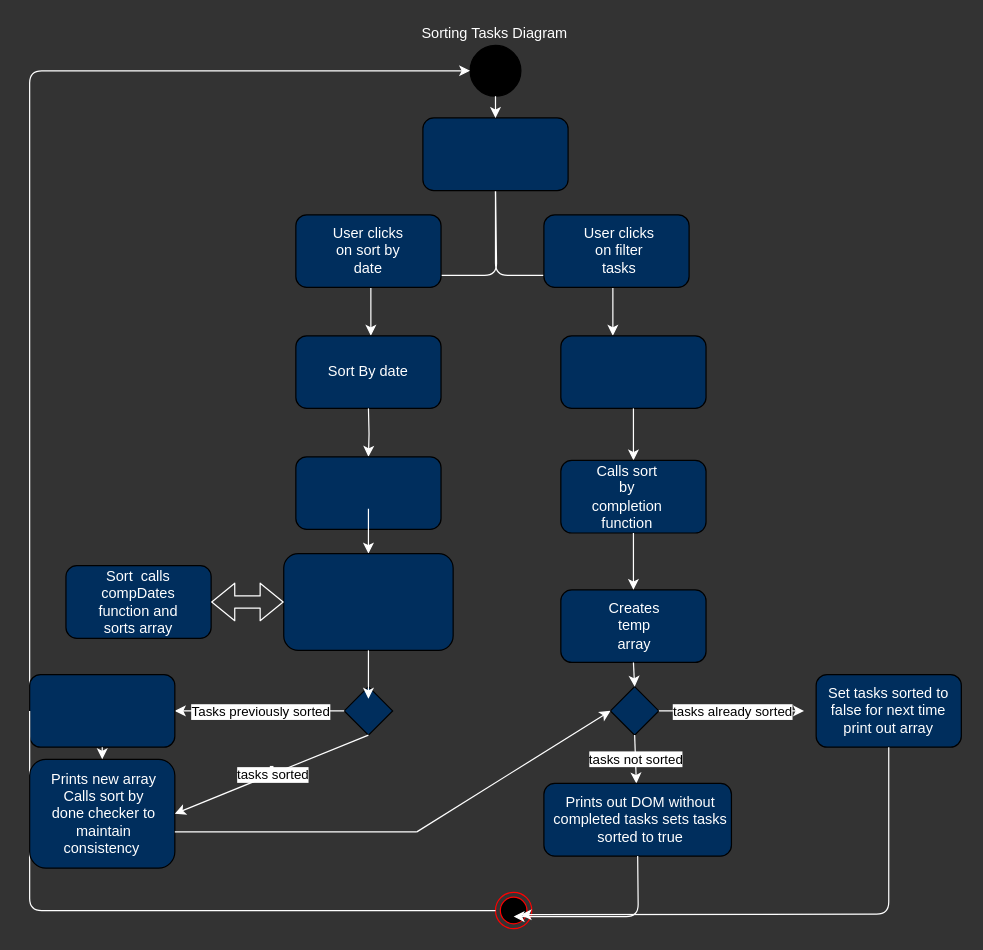
Some shapes in this 983 by 950 pixel diagram are drawn without their labels. The centre of each missing label's shape, as x and y in pixels:
Calls sort by date function: the point at 368,492
Creates temp array calls sort on array: the point at 368,601
Filter completed tasks: the point at 633,371
Load page tasks: the point at 495,154
Print array set tasks sorted to false: the point at 101,710
